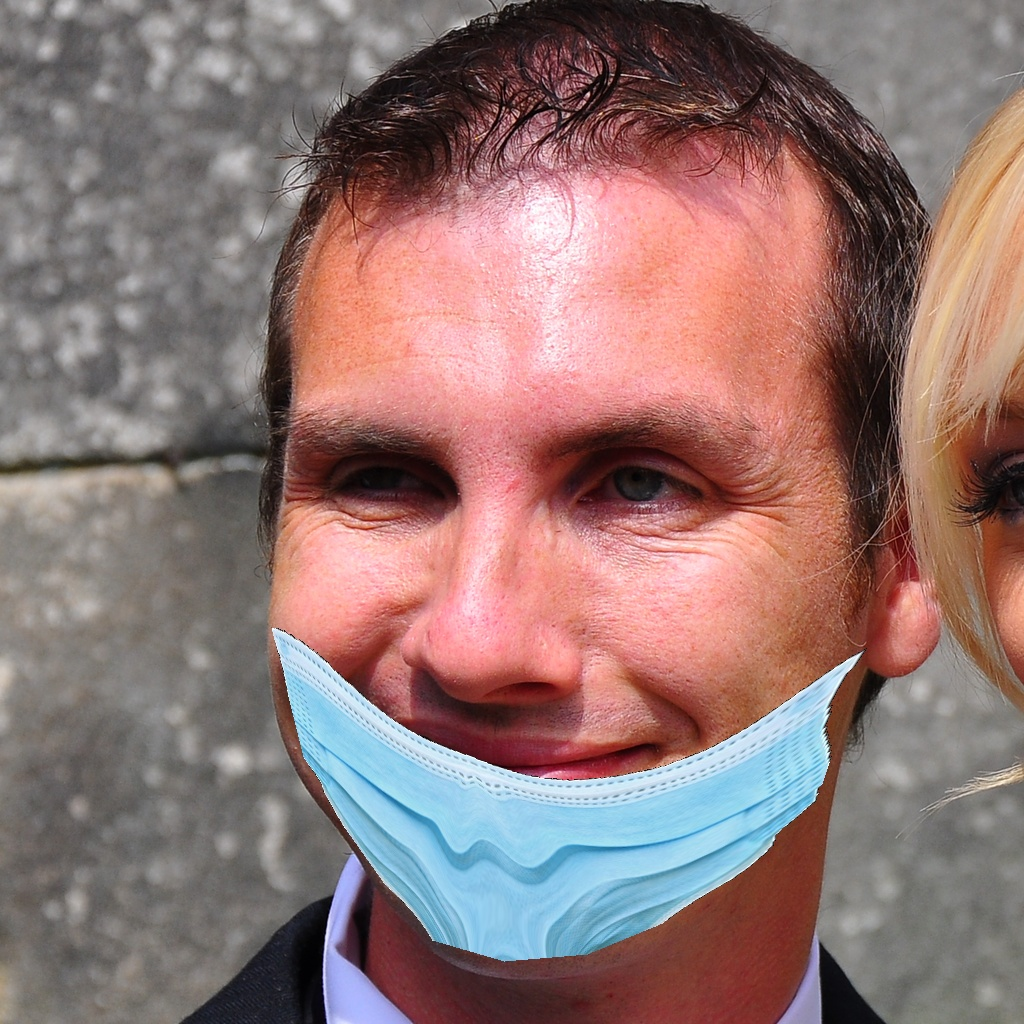mascarilla_mal_puesta: (262, 385, 864, 958)
